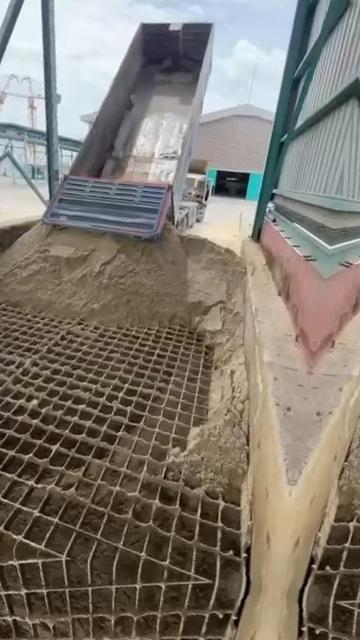sand: (0, 224, 248, 498)
